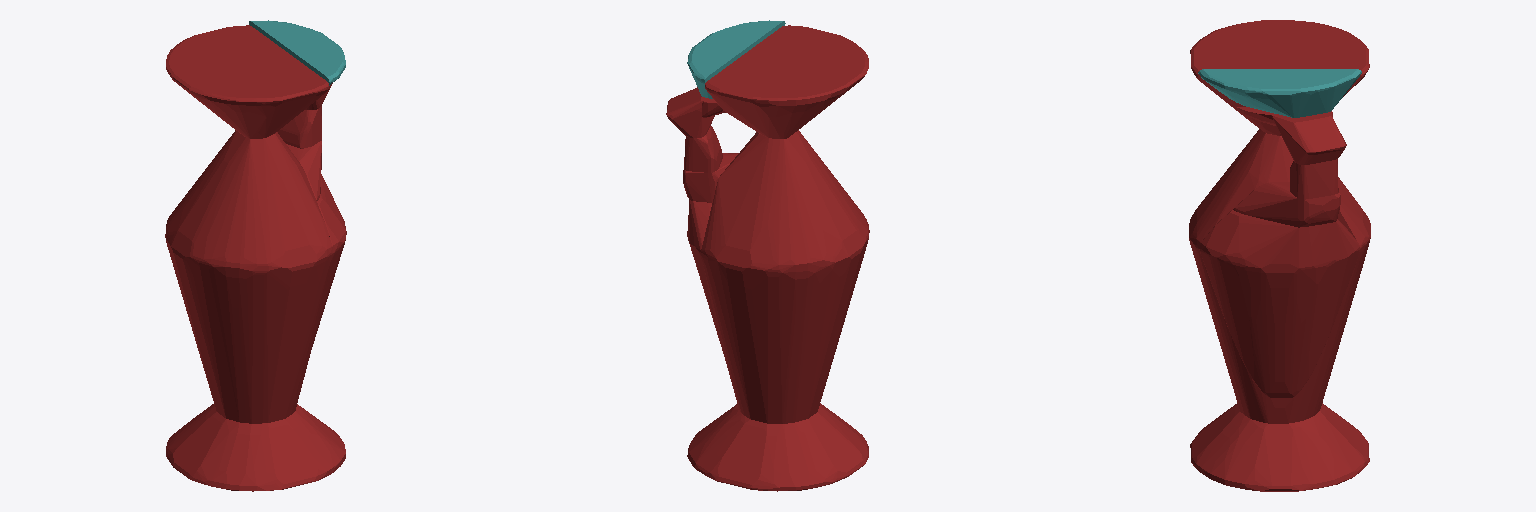
robot.urdf — root:
<robot name="root">
  <link name="bottle_body">
    <inertial>
      <origin xyz="0 0 0" rpy="0 0 0"/>
    </inertial>
    <mass value="1.00E-02"/>
    <visual>
      <origin xyz="0 0 0" rpy="0 0 0"/>
      <geometry>
        <mesh filename="core-bottle-f6fa8cc6b08aaabb2aafb83519a0c8dc-coacd_convex_piece_7.obj" scale="1.0000E-01 1.0000E-01 1.0000E-01"/>
      </geometry>
      <material name="">
        <color rgba="6.00E-01 2.00E-01 2.00E-01 1"/>
      </material>
    </visual>
    <collision>
      <origin xyz="0 0 0" rpy="0 0 0"/>
      <geometry>
        <mesh filename="core-bottle-f6fa8cc6b08aaabb2aafb83519a0c8dc-coacd_convex_piece_7.obj" scale="1.0000E-01 1.0000E-01 1.0000E-01"/>
      </geometry>
    </collision>
    <visual>
      <origin xyz="0 0 0" rpy="0 0 0"/>
      <geometry>
        <mesh filename="core-bottle-f6fa8cc6b08aaabb2aafb83519a0c8dc-coacd_convex_piece_5.obj" scale="1.0000E-01 1.0000E-01 1.0000E-01"/>
      </geometry>
      <material name="">
        <color rgba="6.00E-01 2.00E-01 2.00E-01 1"/>
      </material>
    </visual>
    <collision>
      <origin xyz="0 0 0" rpy="0 0 0"/>
      <geometry>
        <mesh filename="core-bottle-f6fa8cc6b08aaabb2aafb83519a0c8dc-coacd_convex_piece_5.obj" scale="1.0000E-01 1.0000E-01 1.0000E-01"/>
      </geometry>
    </collision>
    <visual>
      <origin xyz="0 0 0" rpy="0 0 0"/>
      <geometry>
        <mesh filename="core-bottle-f6fa8cc6b08aaabb2aafb83519a0c8dc-coacd_convex_piece_0.obj" scale="1.0000E-01 1.0000E-01 1.0000E-01"/>
      </geometry>
      <material name="">
        <color rgba="6.00E-01 2.00E-01 2.00E-01 1"/>
      </material>
    </visual>
    <collision>
      <origin xyz="0 0 0" rpy="0 0 0"/>
      <geometry>
        <mesh filename="core-bottle-f6fa8cc6b08aaabb2aafb83519a0c8dc-coacd_convex_piece_0.obj" scale="1.0000E-01 1.0000E-01 1.0000E-01"/>
      </geometry>
    </collision>
    <visual>
      <origin xyz="0 0 0" rpy="0 0 0"/>
      <geometry>
        <mesh filename="core-bottle-f6fa8cc6b08aaabb2aafb83519a0c8dc-coacd_convex_piece_4.obj" scale="1.0000E-01 1.0000E-01 1.0000E-01"/>
      </geometry>
      <material name="">
        <color rgba="6.00E-01 2.00E-01 2.00E-01 1"/>
      </material>
    </visual>
    <collision>
      <origin xyz="0 0 0" rpy="0 0 0"/>
      <geometry>
        <mesh filename="core-bottle-f6fa8cc6b08aaabb2aafb83519a0c8dc-coacd_convex_piece_4.obj" scale="1.0000E-01 1.0000E-01 1.0000E-01"/>
      </geometry>
    </collision>
    <visual>
      <origin xyz="0 0 0" rpy="0 0 0"/>
      <geometry>
        <mesh filename="core-bottle-f6fa8cc6b08aaabb2aafb83519a0c8dc-coacd_convex_piece_2.obj" scale="1.0000E-01 1.0000E-01 1.0000E-01"/>
      </geometry>
      <material name="">
        <color rgba="6.00E-01 2.00E-01 2.00E-01 1"/>
      </material>
    </visual>
    <collision>
      <origin xyz="0 0 0" rpy="0 0 0"/>
      <geometry>
        <mesh filename="core-bottle-f6fa8cc6b08aaabb2aafb83519a0c8dc-coacd_convex_piece_2.obj" scale="1.0000E-01 1.0000E-01 1.0000E-01"/>
      </geometry>
    </collision>
    <visual>
      <origin xyz="0 0 0" rpy="0 0 0"/>
      <geometry>
        <mesh filename="core-bottle-f6fa8cc6b08aaabb2aafb83519a0c8dc-coacd_convex_piece_8.obj" scale="1.0000E-01 1.0000E-01 1.0000E-01"/>
      </geometry>
      <material name="">
        <color rgba="6.00E-01 2.00E-01 2.00E-01 1"/>
      </material>
    </visual>
    <collision>
      <origin xyz="0 0 0" rpy="0 0 0"/>
      <geometry>
        <mesh filename="core-bottle-f6fa8cc6b08aaabb2aafb83519a0c8dc-coacd_convex_piece_8.obj" scale="1.0000E-01 1.0000E-01 1.0000E-01"/>
      </geometry>
    </collision>
    <visual>
      <origin xyz="0 0 0" rpy="0 0 0"/>
      <geometry>
        <mesh filename="core-bottle-f6fa8cc6b08aaabb2aafb83519a0c8dc-coacd_convex_piece_1.obj" scale="1.0000E-01 1.0000E-01 1.0000E-01"/>
      </geometry>
      <material name="">
        <color rgba="6.00E-01 2.00E-01 2.00E-01 1"/>
      </material>
    </visual>
    <collision>
      <origin xyz="0 0 0" rpy="0 0 0"/>
      <geometry>
        <mesh filename="core-bottle-f6fa8cc6b08aaabb2aafb83519a0c8dc-coacd_convex_piece_1.obj" scale="1.0000E-01 1.0000E-01 1.0000E-01"/>
      </geometry>
    </collision>
    <visual>
      <origin xyz="0 0 0" rpy="0 0 0"/>
      <geometry>
        <mesh filename="core-bottle-f6fa8cc6b08aaabb2aafb83519a0c8dc-coacd_convex_piece_6.obj" scale="1.0000E-01 1.0000E-01 1.0000E-01"/>
      </geometry>
      <material name="">
        <color rgba="6.00E-01 2.00E-01 2.00E-01 1"/>
      </material>
    </visual>
    <collision>
      <origin xyz="0 0 0" rpy="0 0 0"/>
      <geometry>
        <mesh filename="core-bottle-f6fa8cc6b08aaabb2aafb83519a0c8dc-coacd_convex_piece_6.obj" scale="1.0000E-01 1.0000E-01 1.0000E-01"/>
      </geometry>
    </collision>
  </link>
  <link name="bottle_cap">
    <origin xyz="0 0 0.002" rpy="0 0 0"/>
    <mass value="1.00E-02"/>
    <visual>
      <origin xyz="0 0 0.002" rpy="0 0 0"/>
      <geometry>
        <mesh filename="core-bottle-f6fa8cc6b08aaabb2aafb83519a0c8dc-coacd_convex_piece_3.obj" scale="1.0000E-01 1.0000E-01 1.0000E-01"/>
      </geometry>
      <material name="">
        <color rgba="3.00E-01 6.00E-01 6.00E-01 1"/>
      </material>
    </visual>
    <collision>
      <origin xyz="0 0 0.002" rpy="0 0 0"/>
      <geometry>
        <mesh filename="core-bottle-f6fa8cc6b08aaabb2aafb83519a0c8dc-coacd_convex_piece_3.obj" scale="1.0000E-01 1.0000E-01 1.0000E-01"/>
      </geometry>
    </collision>
  </link>
  <joint name="bottle_cap_joint" type="revolute">
    <origin xyz="0 0 0" rpy="0 0 0"/>
    <parent link="bottle_body"/>
    <child link="bottle_cap"/>
    <axis xyz="0 0 1"/>
    <limit lower="0.00" upper="6.28"/>
    <dynamics damping="0.05"/>
  </joint>
</robot>

--- Render facts (derived) ---
3 views of the same robot in one strip: view 1: azimuth 30°, elevation 25°; view 2: azimuth 150°, elevation 25°; view 3: azimuth 270°, elevation 25° (orthographic).
Model root with 2 links and 1 joints (1 revolute), rooted at bottle_body, posed every joint at zero.
Links seen in each view (by area): view 1: bottle_body, bottle_cap; view 2: bottle_body, bottle_cap; view 3: bottle_body, bottle_cap.
Boxes of the visible links, x1,y1,x2,y2 form: bottle_body: (165,25,346,491); bottle_cap: (249,20,345,85); bottle_body: (666,25,869,491); bottle_cap: (687,20,785,98); bottle_body: (1189,20,1370,491); bottle_cap: (1198,69,1361,117).
Bounding box of the posed robot: 0.0811 × 0.0738 × 0.1808 m (x, y, z).
9 mesh visuals loaded from 9 distinct referenced files (9 OBJ).